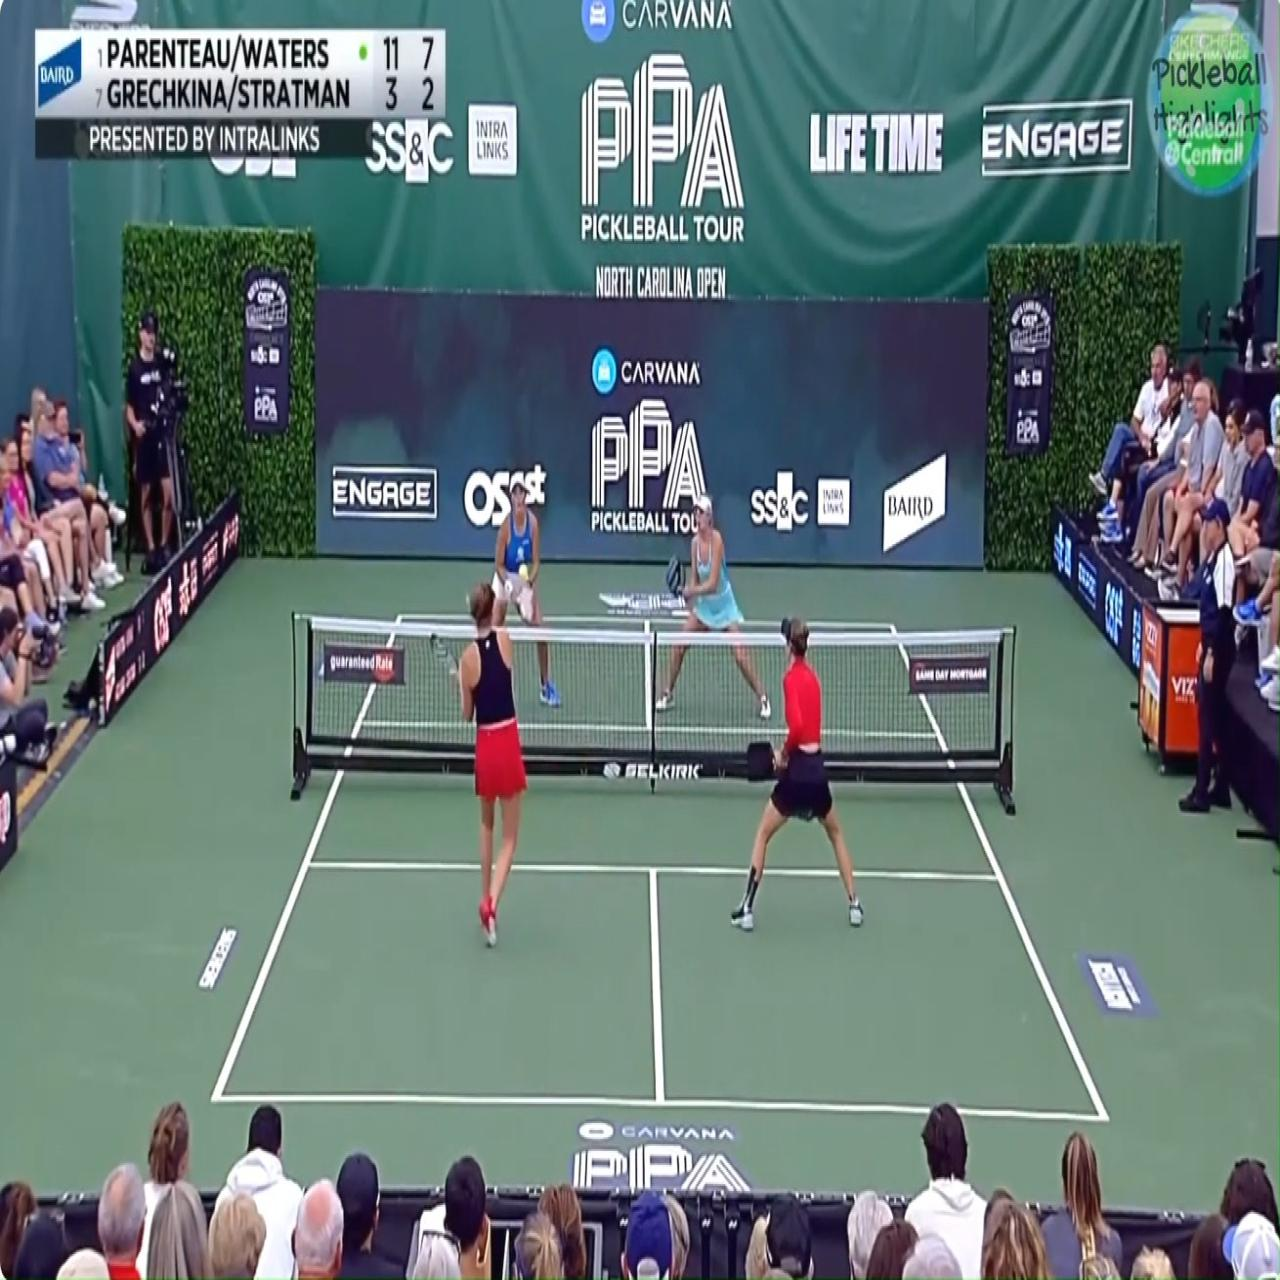pickleball: (518, 563, 527, 581)
